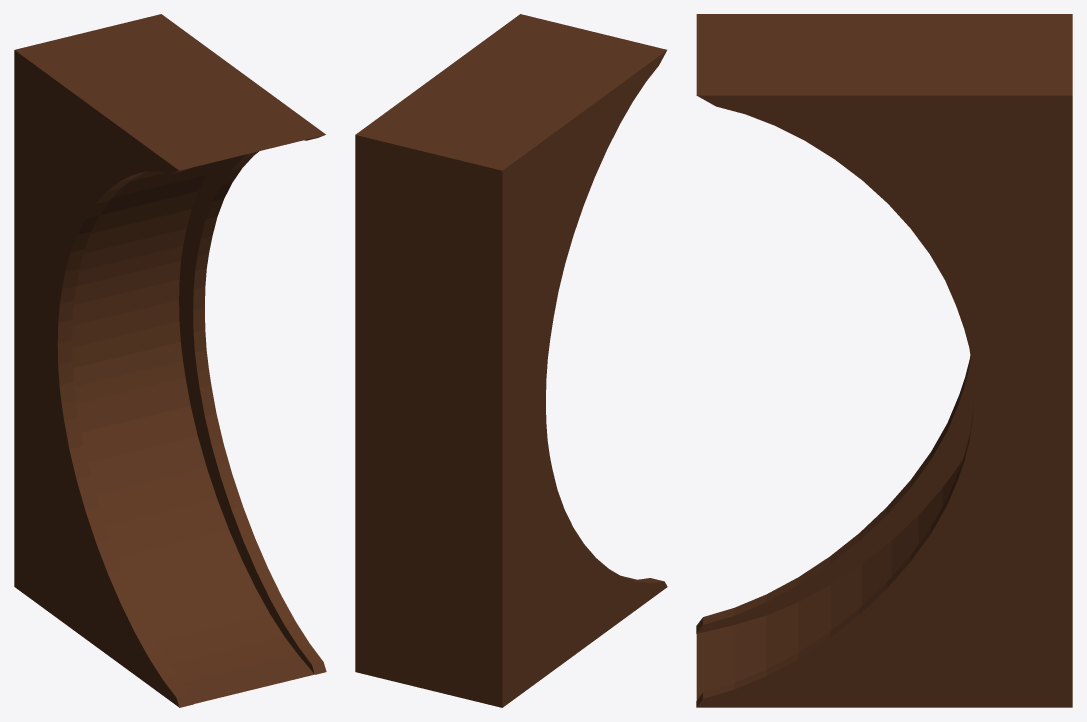
Rendered from 8. Rampa_Vertial.fbx.
3 views of the same model, side by side, from view 1: azimuth 30°, elevation 25°; view 2: azimuth 150°, elevation 25°; view 3: azimuth 270°, elevation 25° (orthographic). The views are drawn at different scales.
Parts seen in each view (by area): view 1: Cube; view 2: Cube; view 3: Cube.
Boxes of the visible parts, x1,y1,x2,y2 form: Cube: (14, 14, 326, 707); Cube: (355, 14, 667, 707); Cube: (696, 14, 1072, 707).
Bounding box in the file's own units: 200 × 698 × 389.
